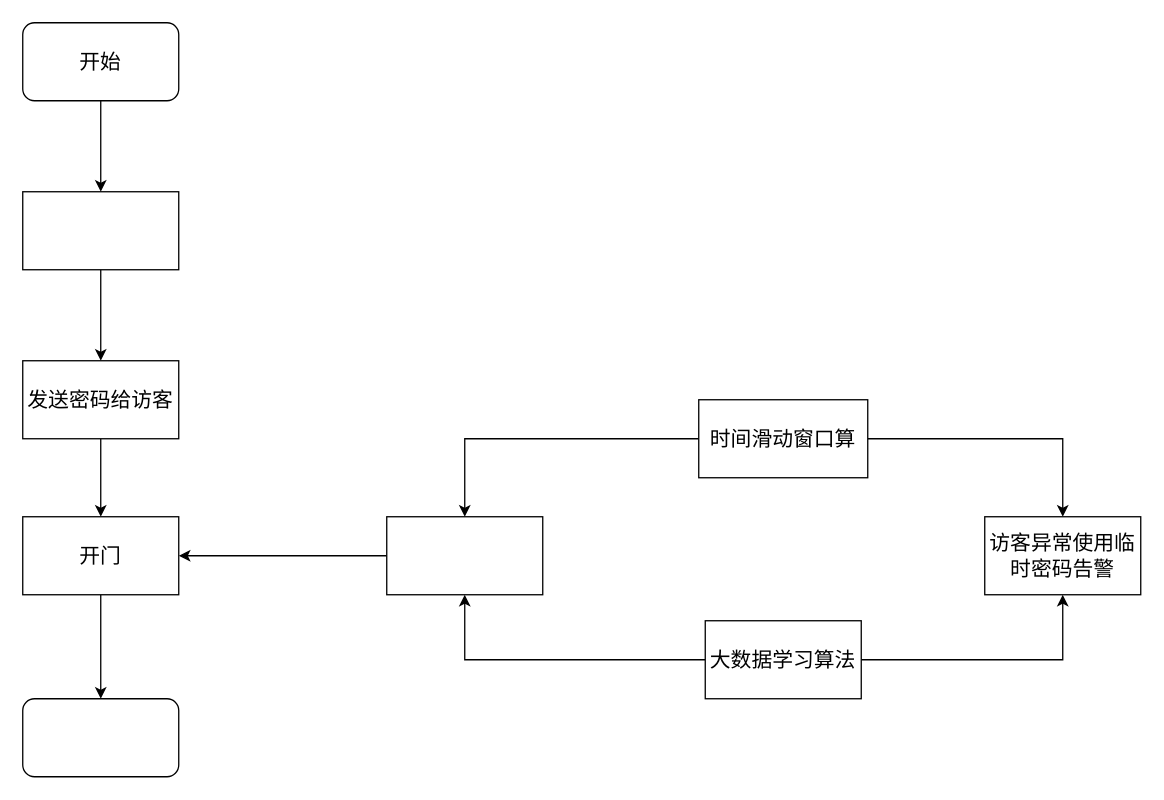
The diagram is 1164 pixels wide and 800 high, and some of its shapes have lost their labels. The shapes that lost their labels are listed below. From the top down, each one's centre as x and y in pixels, then its label:
point (100, 230): 获取周期性临时密码
point (464, 555): 记录次数
point (100, 737): 结束
